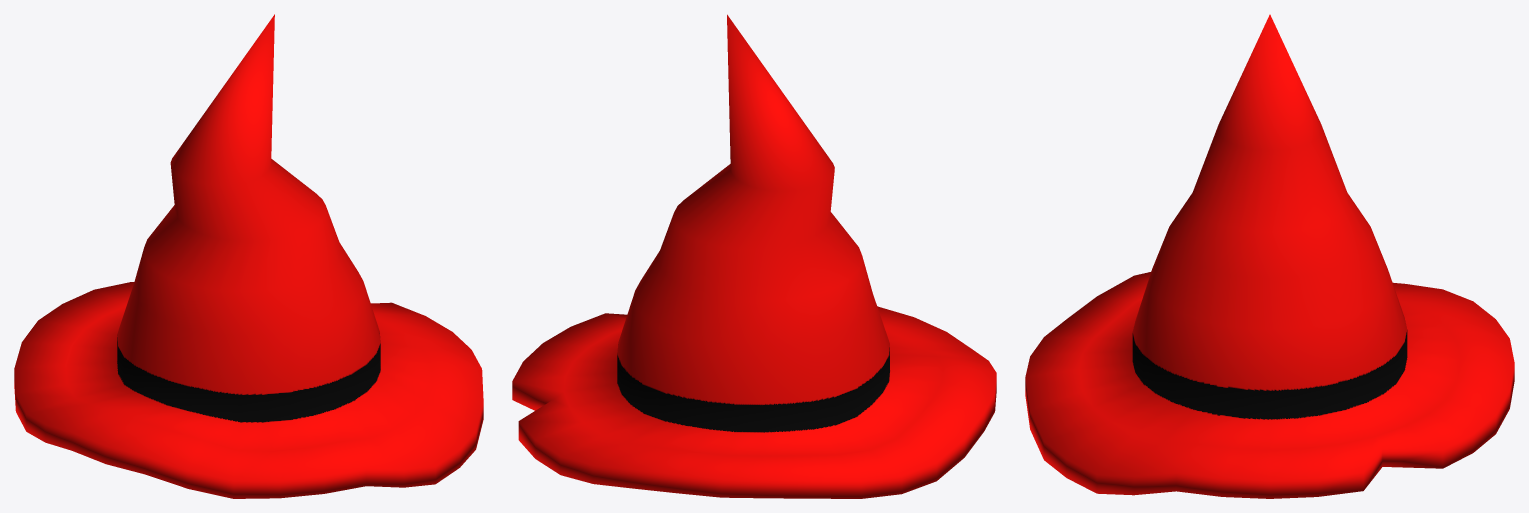
Rendered from WizardHat_Red.fbx.
The picture shows the model from 3 angles, left to right: view 1: azimuth 30°, elevation 25°; view 2: azimuth 150°, elevation 25°; view 3: azimuth 270°, elevation 25°; orthographic projection. The views are drawn at different scales.
Parts seen in each view (by area): view 1: Cone.001; view 2: Cone.001; view 3: Cone.001.
Part boxes in pixels (x1,y1,x2,y2): Cone.001: [14, 14, 483, 498]; Cone.001: [512, 14, 996, 498]; Cone.001: [1025, 14, 1514, 498].
Bounding box in the file's own units: 933 × 884 × 933.
